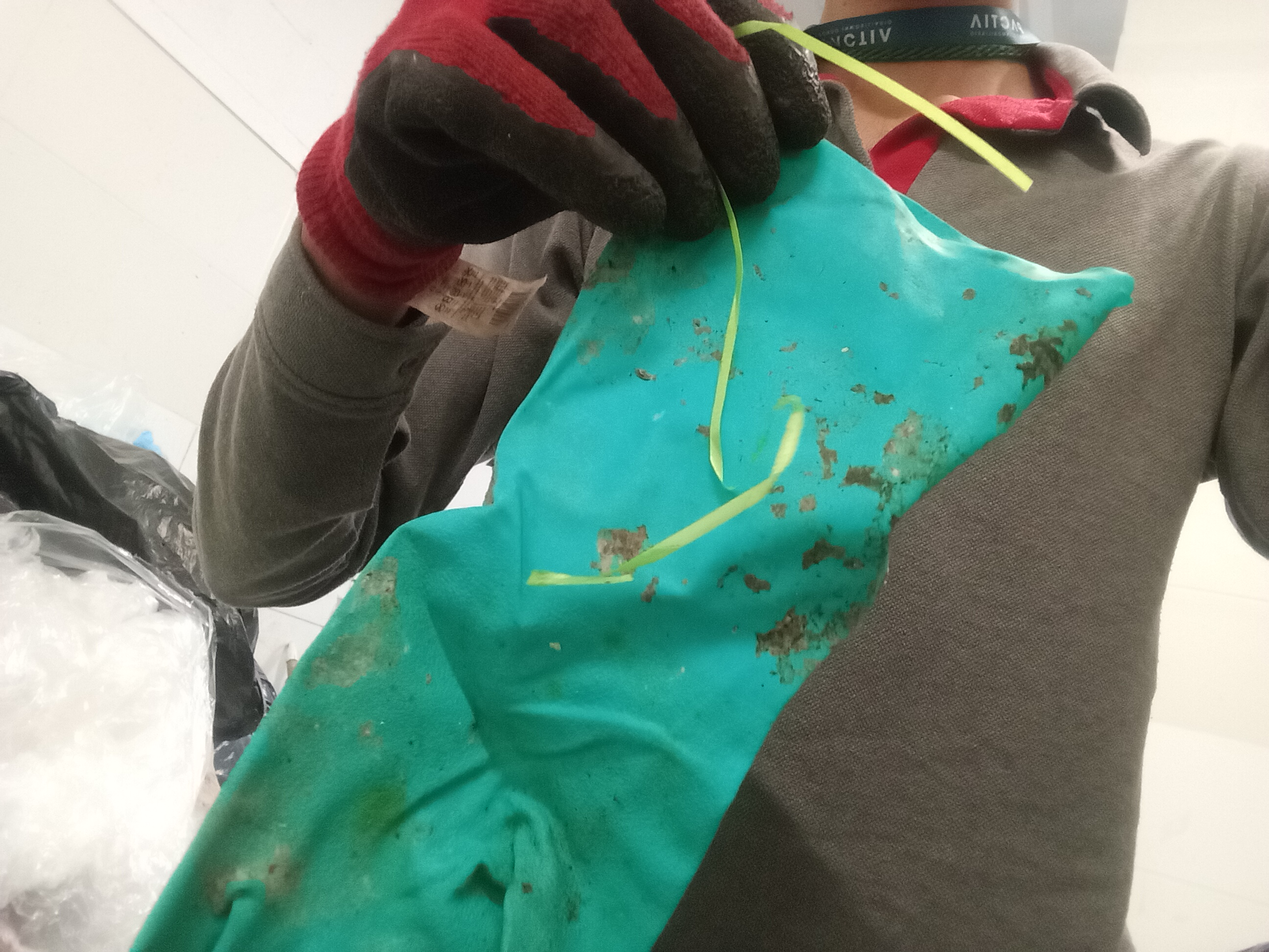Ordinario: (131, 137, 1135, 952)
